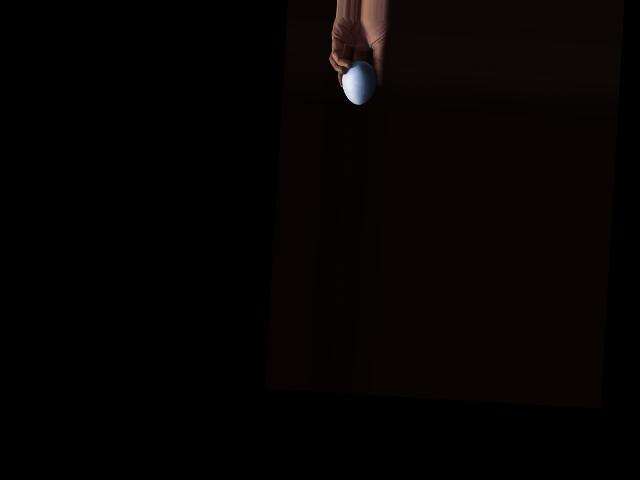egg: (339, 60, 377, 106)
